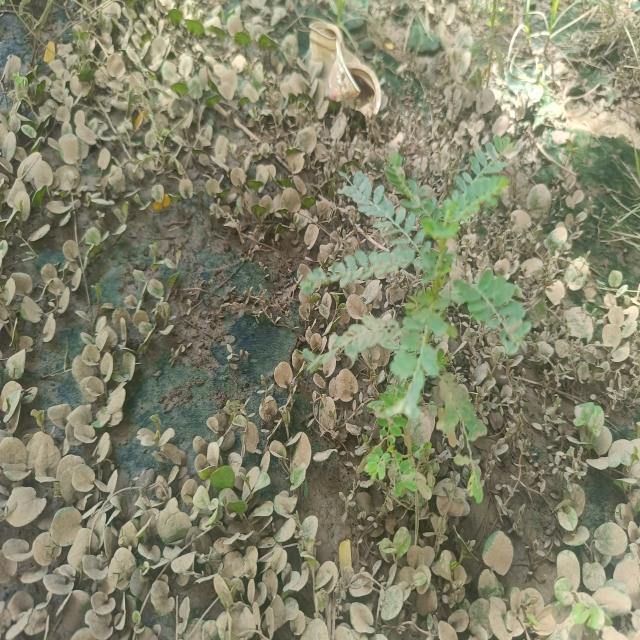weed: (283, 135, 550, 460), (357, 452, 442, 520)
